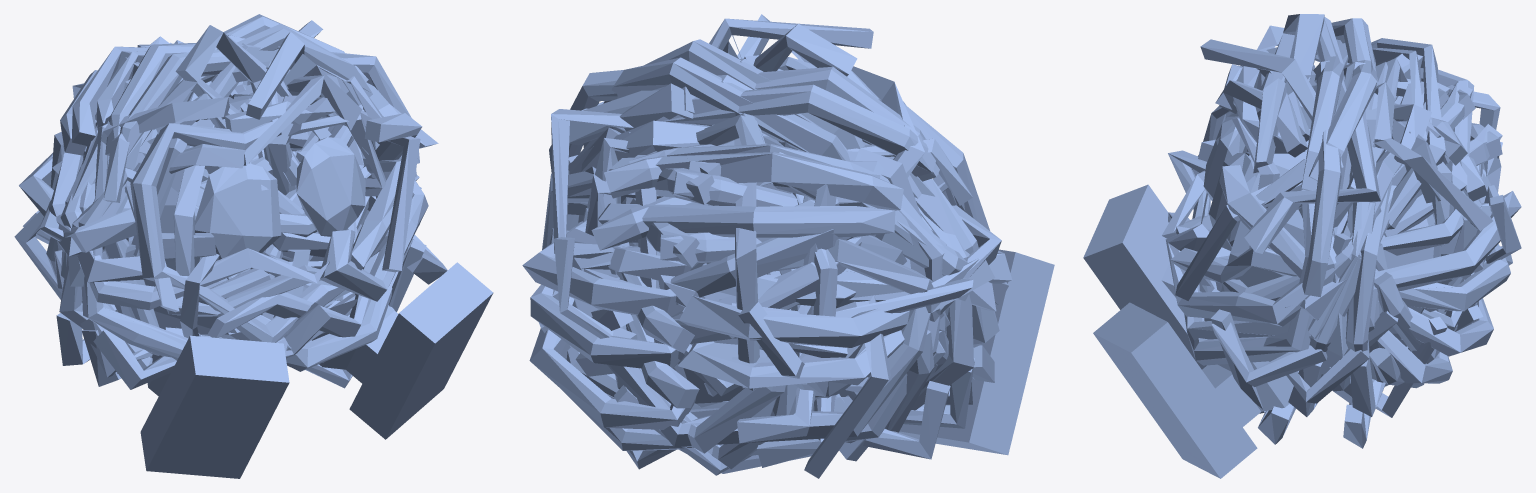
Rendered from tangela.glb.
3 renders of one model, left to right at view 1: azimuth 30°, elevation 25°; view 2: azimuth 150°, elevation 25°; view 3: azimuth 270°, elevation 25°, orthographic. The views are drawn at different scales.
Parts seen in each view (by area): view 1: Node; view 2: Node; view 3: Node.
Part boxes in pixels (left/top/right/bottom): Node: left=14, top=14, right=493, bottom=478; Node: left=522, top=14, right=1054, bottom=478; Node: left=1083, top=14, right=1521, bottom=478.
Size of the model in its own units: 7.38 by 7.5 by 7.56.
